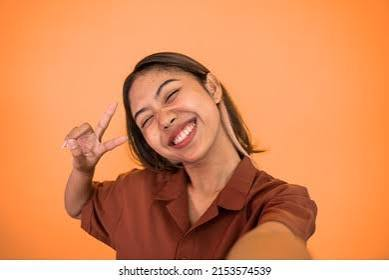peace_sign: (61, 97, 130, 168)
